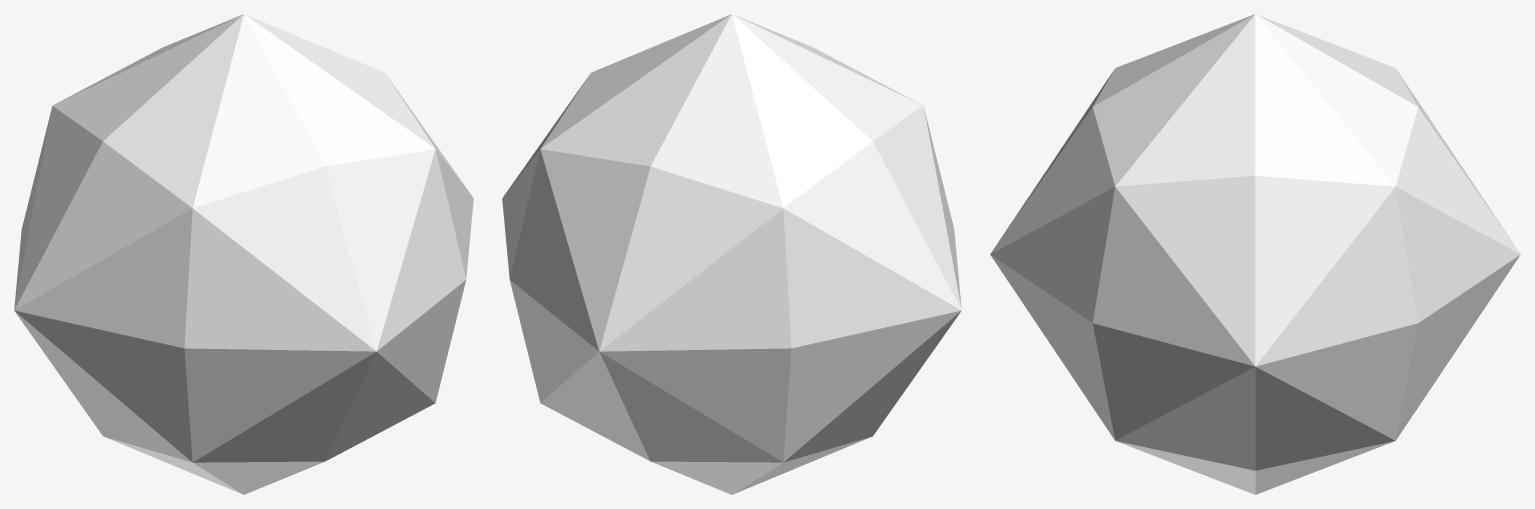
File: disdyakis-dodecahedron.gltf
3 renders of one model, left to right at view 1: azimuth 30°, elevation 25°; view 2: azimuth 150°, elevation 25°; view 3: azimuth 270°, elevation 25°, orthographic.
Parts seen in each view (by area): view 1: Disdyakisdodecahedron; view 2: Disdyakisdodecahedron; view 3: Disdyakisdodecahedron.
Boxes of the visible parts, left/top/right/bottom form: Disdyakisdodecahedron: left=14, top=14, right=473, bottom=494; Disdyakisdodecahedron: left=502, top=14, right=961, bottom=494; Disdyakisdodecahedron: left=990, top=14, right=1520, bottom=494.
Bounding box in the file's own units: 11.54 × 11.54 × 11.54.
Materials: 1 (1 with a texture image).
